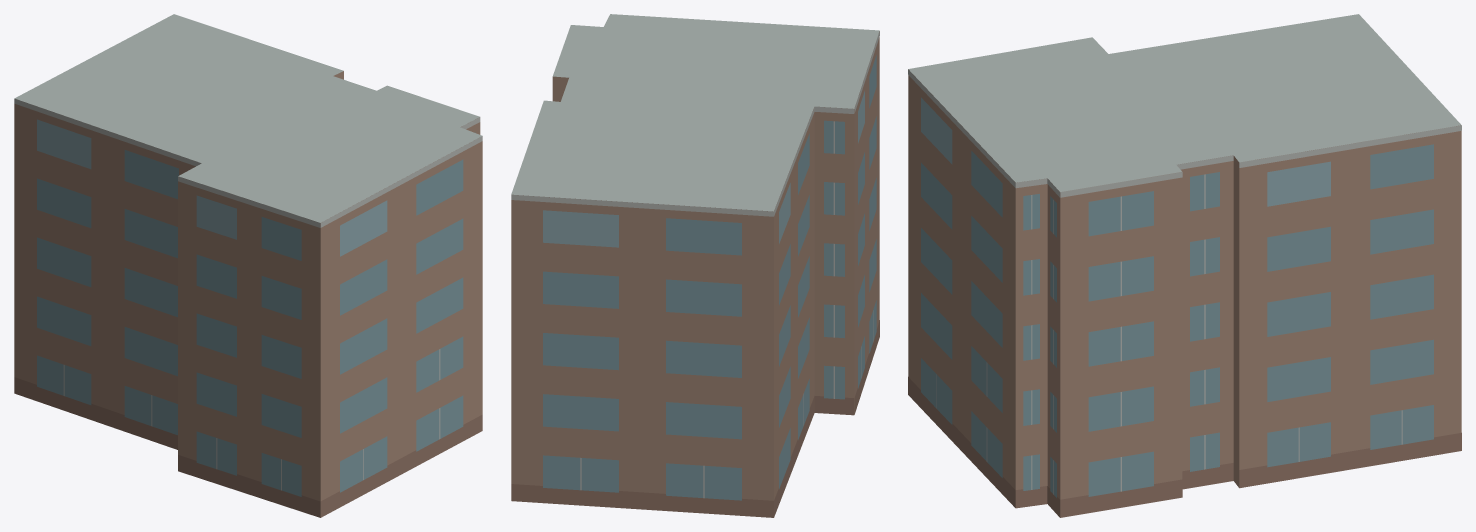
File: survey-upis-33037514.glb
3 renders of one model, left to right at view 1: azimuth 30°, elevation 25°; view 2: azimuth 150°, elevation 25°; view 3: azimuth 270°, elevation 25°, orthographic. The views are drawn at different scales.
Parts seen in each view (by area): view 1: survey-upis-33037514.tmp; view 2: survey-upis-33037514.tmp; view 3: survey-upis-33037514.tmp.
Part boxes in pixels (x1=…): survey-upis-33037514.tmp: x1=14, y1=14, x2=482, y2=517; survey-upis-33037514.tmp: x1=511, y1=14, x2=879, y2=517; survey-upis-33037514.tmp: x1=908, y1=14, x2=1461, y2=517.
Bounding box in the file's own units: 16.55 × 14.1 × 21.73.
